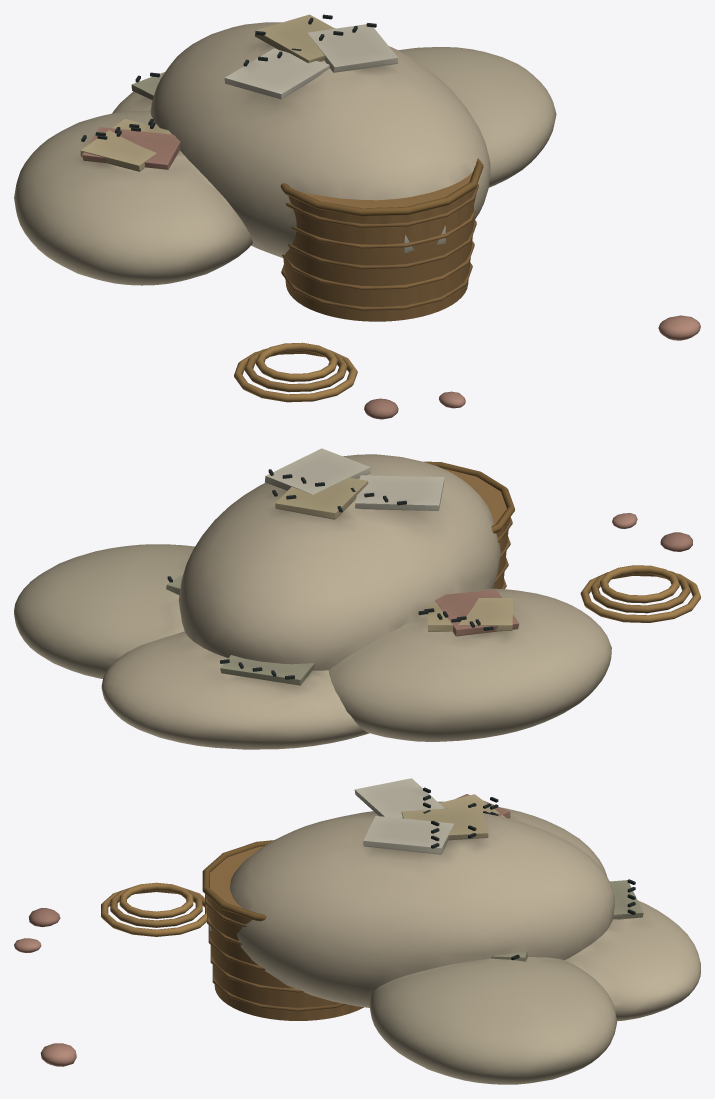
The model's file is balloon_basket_wreck_a.glb.
The picture shows the model from 3 angles, top to bottom: view 1: azimuth 30°, elevation 25°; view 2: azimuth 150°, elevation 25°; view 3: azimuth 270°, elevation 25°; orthographic projection. The views are drawn at different scales.
Parts seen in each view (by area): view 1: Surface; view 2: Surface; view 3: Surface.
Boxes of the visible parts, x1=… form: Surface: x1=14, y1=14, x2=700, y2=419; Surface: x1=14, y1=448, x2=700, y2=749; Surface: x1=14, y1=778, x2=700, y2=1084.
Size of the model in its own units: 6.45 by 2.2 by 7.76.
